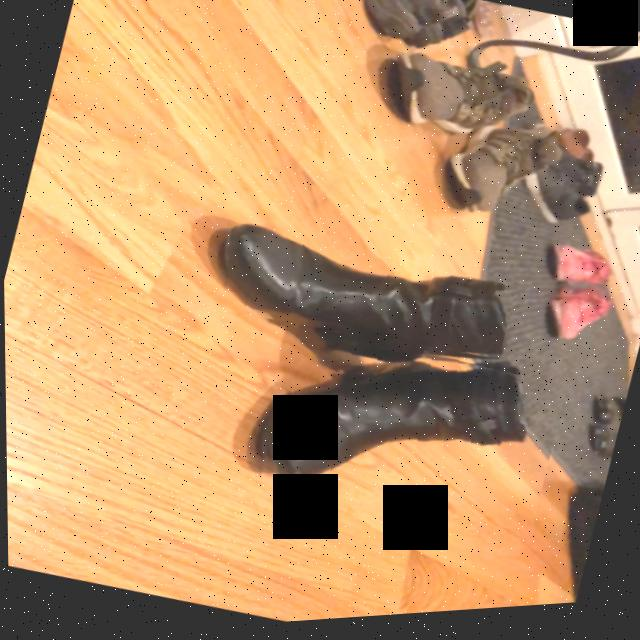shoe: (264, 365, 552, 491), (233, 237, 503, 353)
